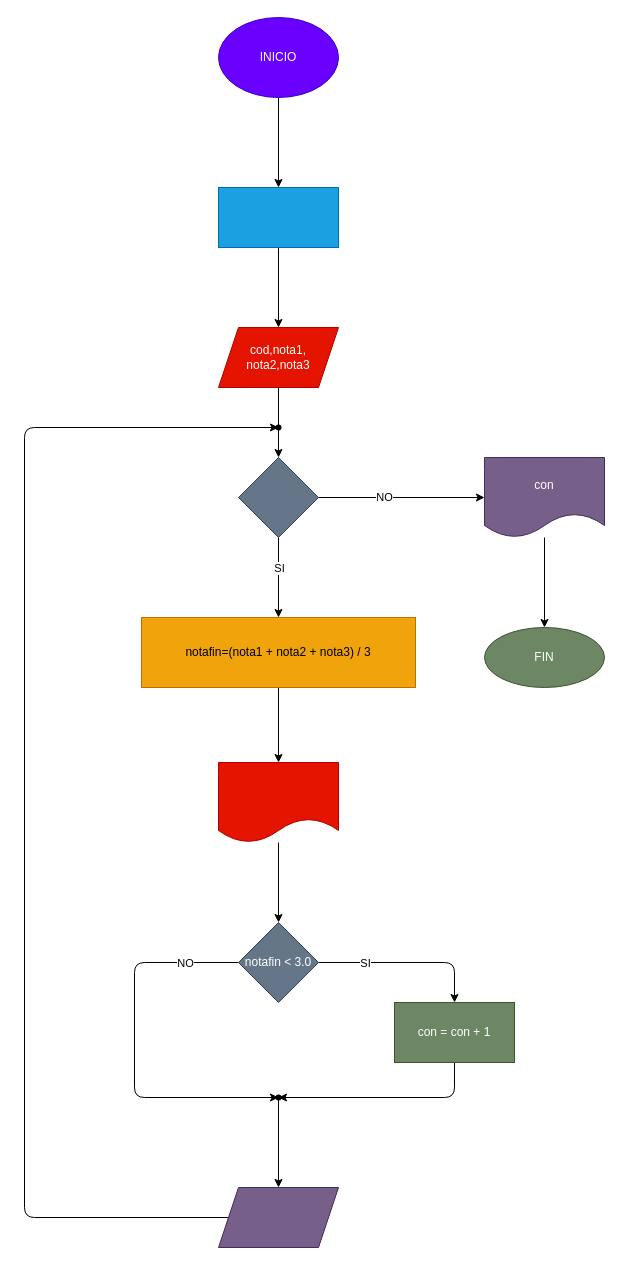
Image size: 622x1265. Some labels were removed from this diagram. The centre of each missing label's shape, as x and y in pixels:
"cod != 0" belongs at [278,497].
"cod notafin" belongs at [278,802].
"cod, nota1 nota2, nota3" belongs at [278,1217].
"con = 0" belongs at [278,217].
